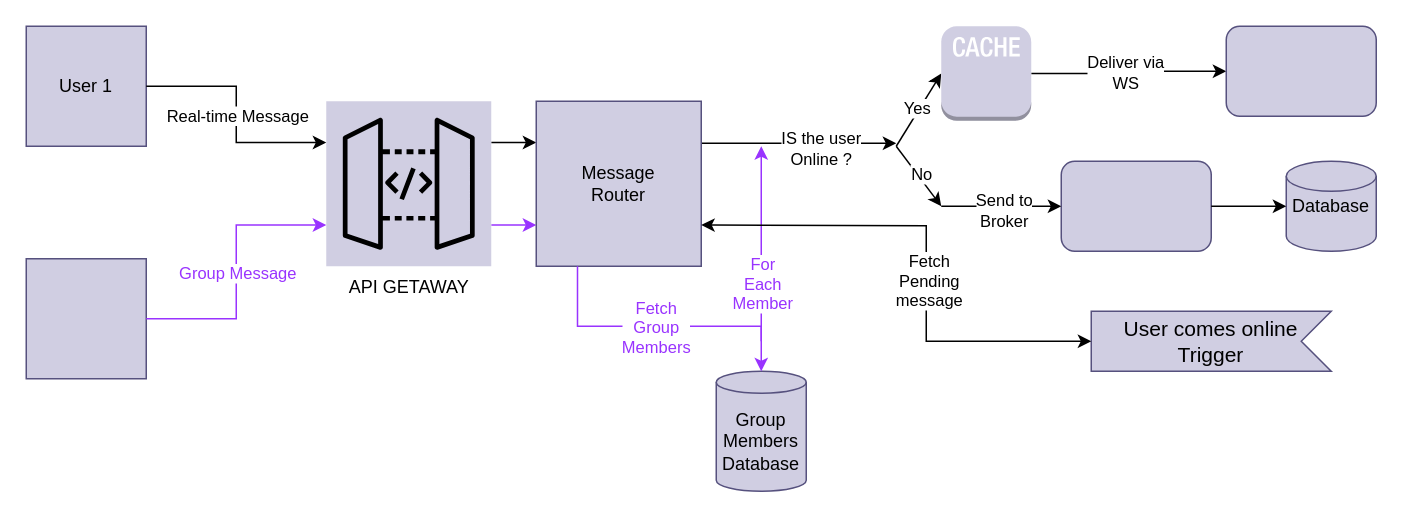
Some shapes in this 1403 by 518 pixel diagram are drawn without their labels. Here are the shapes that lost their labels. From the top down, the centre of each, then its label:
At point 1300,70: "WebS ocket".
At point 1135,205: "Message Broker".
At point 85,318: "User 2".
